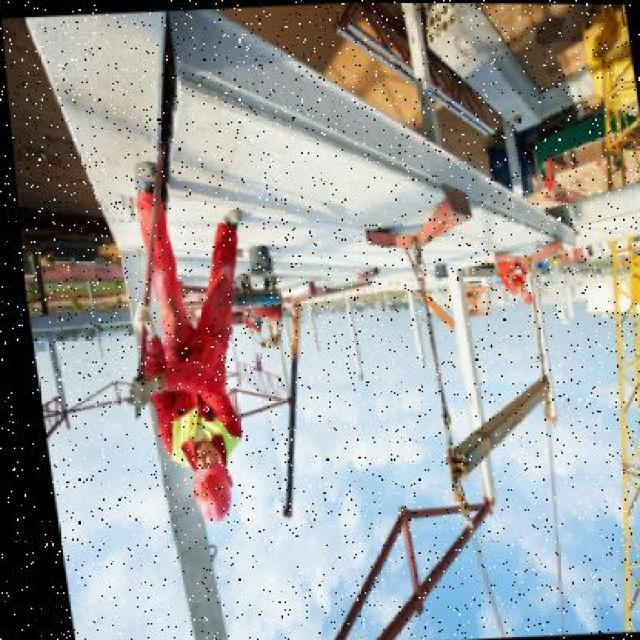helmet: (174, 456, 231, 521)
vest: (125, 313, 238, 455)
